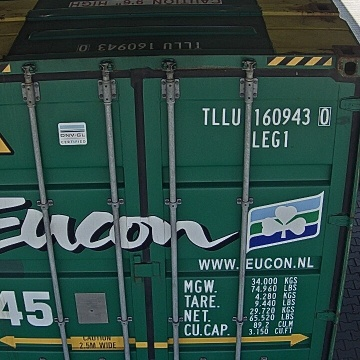serial_id: (202, 107, 331, 126)
